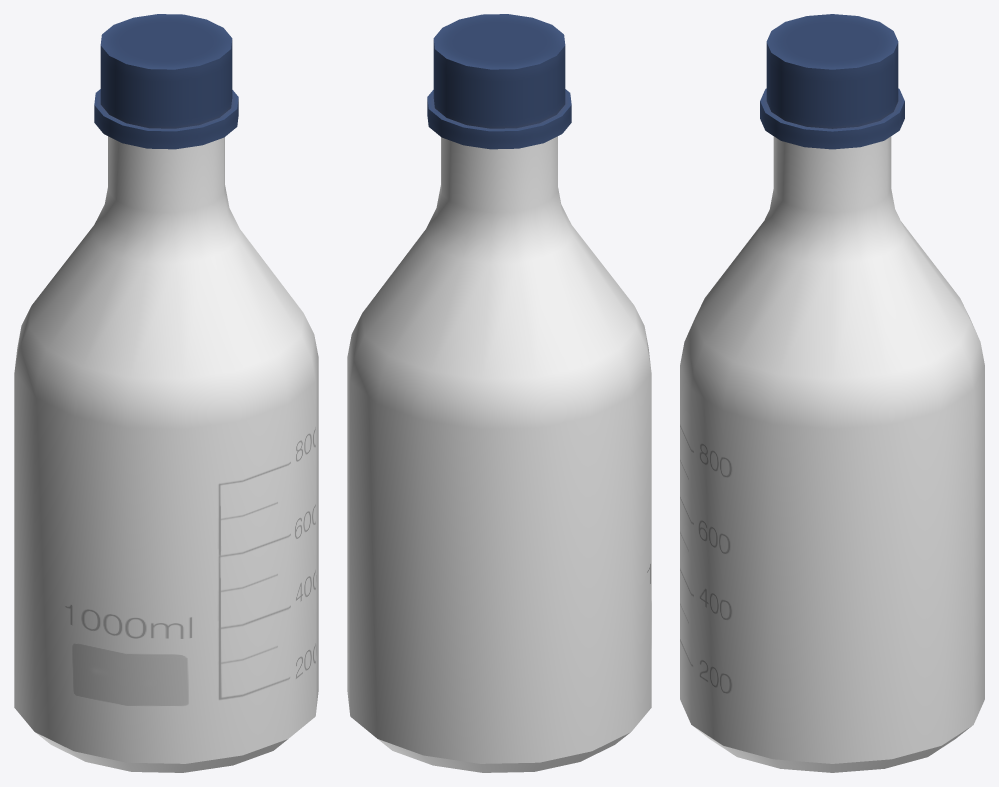
Rendered from 2漂浮瓶.glb.
3 renders of one model, left to right at view 1: azimuth 30°, elevation 25°; view 2: azimuth 150°, elevation 25°; view 3: azimuth 270°, elevation 25°, orthographic.
Visible parts, largest first — view 1: 漂浮瓶.001, 漂浮瓶; view 2: 漂浮瓶.001, 漂浮瓶; view 3: 漂浮瓶.001, 漂浮瓶.
Boxes of the visible parts, x1=… form: 漂浮瓶.001: x1=14, y1=136, x2=318, y2=772; 漂浮瓶: x1=94, y1=14, x2=238, y2=149; 漂浮瓶.001: x1=347, y1=136, x2=651, y2=772; 漂浮瓶: x1=427, y1=14, x2=571, y2=149; 漂浮瓶.001: x1=680, y1=136, x2=984, y2=772; 漂浮瓶: x1=760, y1=14, x2=904, y2=149.
Bounding box in the file's own units: 0.1405 × 0.3432 × 0.1405.
Materials: 2 (2 with a texture image).
